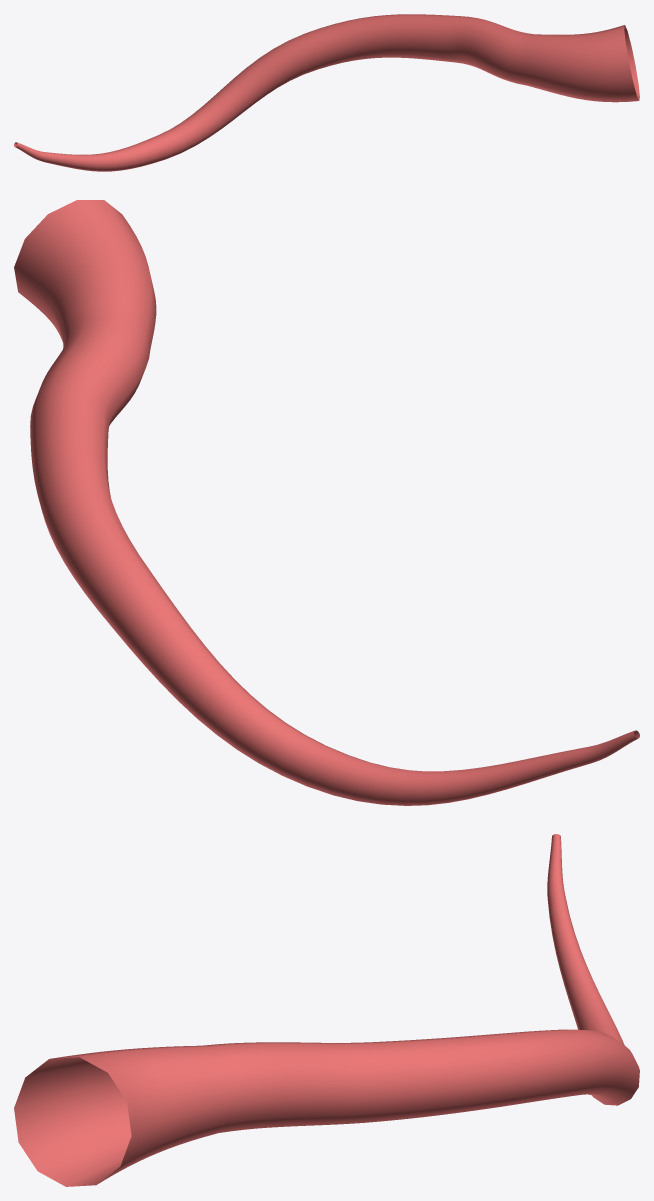
File: Posterior_branch_of_renal_artery.r_BezierCurve.434.glb
3 views of the same model, one above another, from view 1: azimuth 30°, elevation 25°; view 2: azimuth 150°, elevation 25°; view 3: azimuth 270°, elevation 25° (orthographic). The views are drawn at different scales.
Parts seen in each view (by area): view 1: Posterior_branch_of_renal_artery.r_BezierCurve.434; view 2: Posterior_branch_of_renal_artery.r_BezierCurve.434; view 3: Posterior_branch_of_renal_artery.r_BezierCurve.434.
Part boxes in pixels (x1,y1,x2,y2): Posterior_branch_of_renal_artery.r_BezierCurve.434: (14, 14, 639, 171); Posterior_branch_of_renal_artery.r_BezierCurve.434: (14, 200, 639, 805); Posterior_branch_of_renal_artery.r_BezierCurve.434: (14, 834, 639, 1186).
Size of the model in its own units: 0.0441 by 0.0142 by 0.0279.
